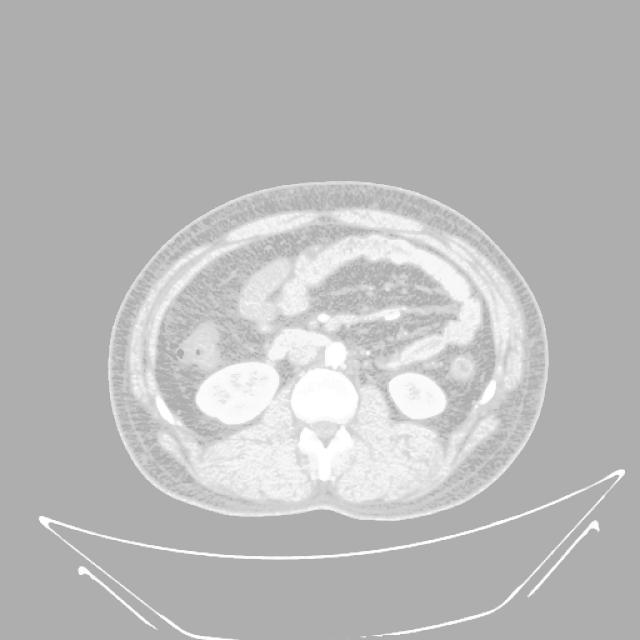NORMAL: (96, 179, 551, 503)
